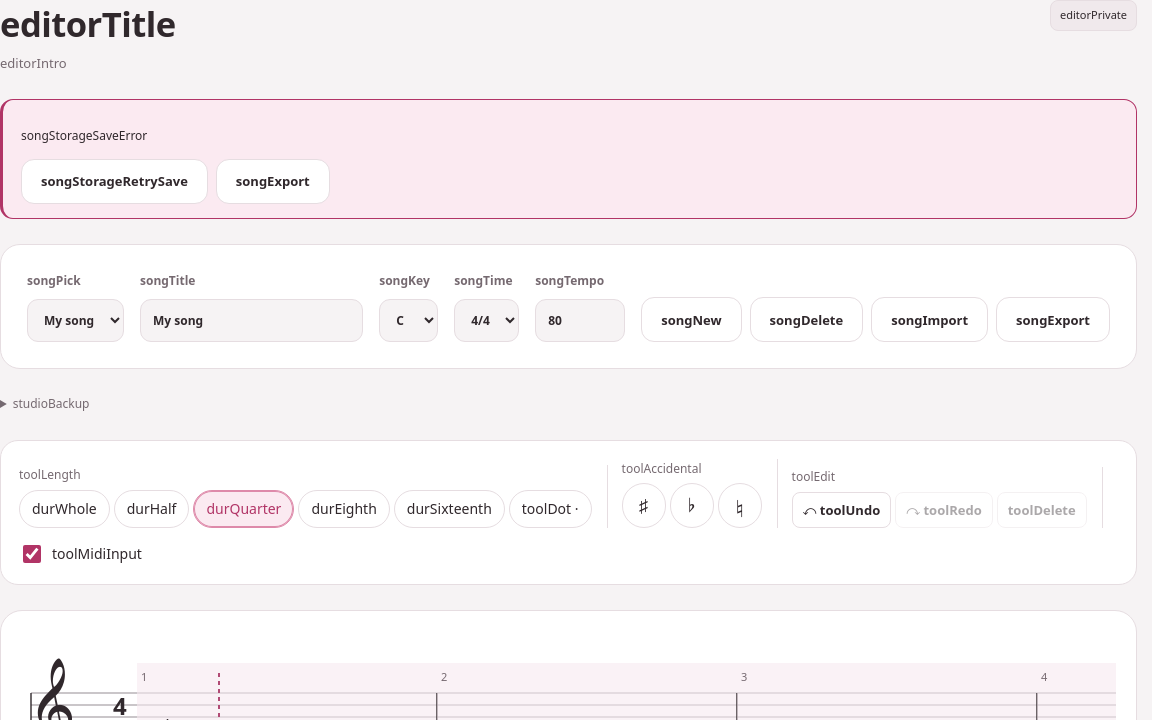
Test: note editor storage recovery › keeps edits in memory after a failed save, exports them, and saves the same work on retry
Check: the message shows "songStorageSaveError", box left=21, top=128, right=147, bottom=144
Click the button "songExport" below "songStorageSaveError". click: (273, 181)
box: left=216, top=159, right=330, bottom=204
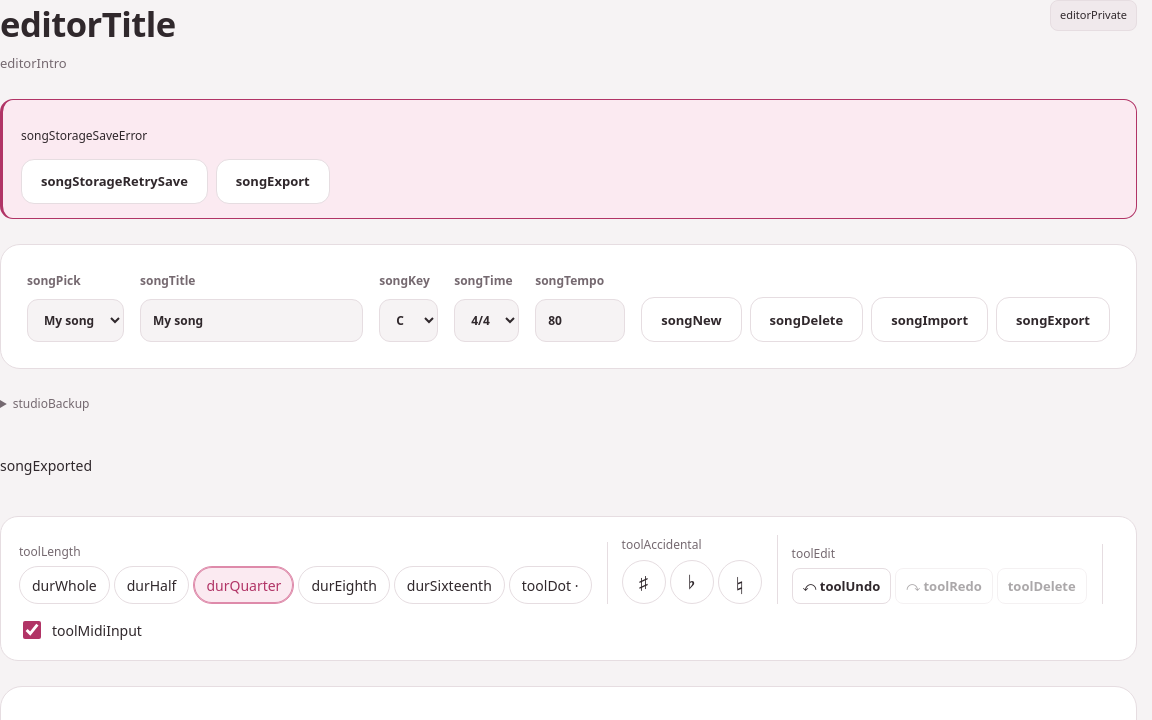
Check: the message "songStorageSaveError songStorageRetrySave songExport" is shown, box left=0, top=100, right=1137, bottom=219
Click the button "songStorageRetrySave". click: (114, 181)
box: left=21, top=159, right=208, bottom=204
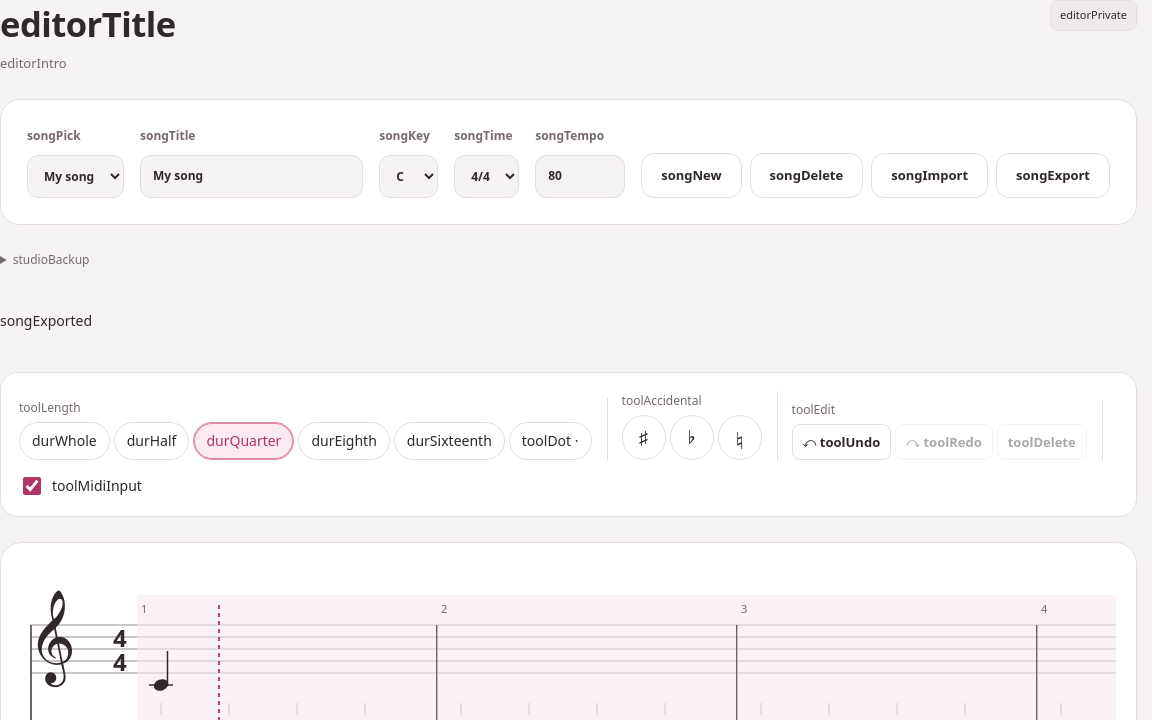
Check: the message "songStorageSaveError songStorageRetrySave songExport" is gone
